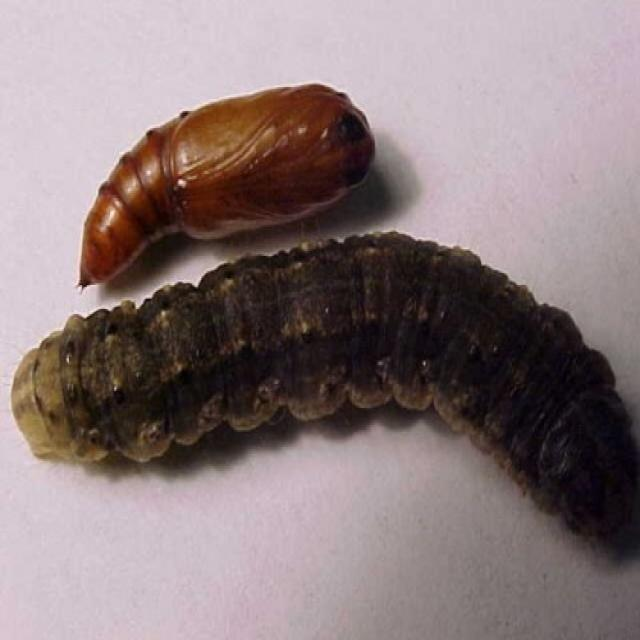Cutworm: (7, 251, 640, 602), (64, 88, 395, 280)
